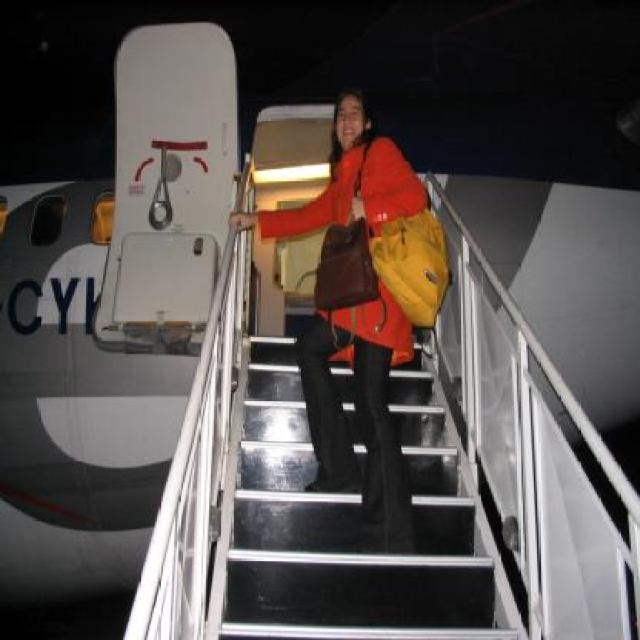stair: (213, 334, 522, 640)
